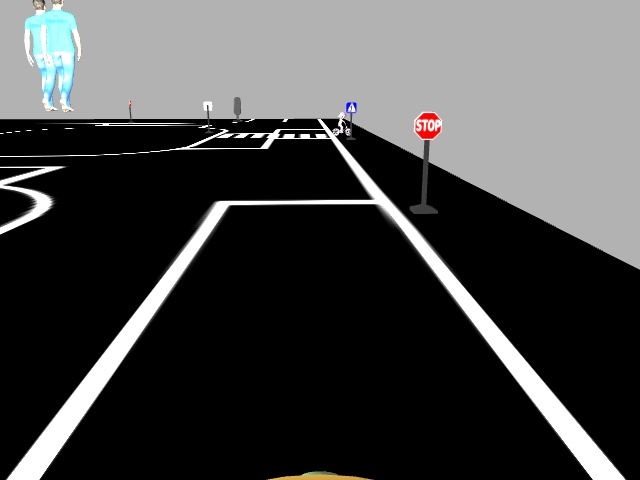Stop: (411, 110, 444, 140)
